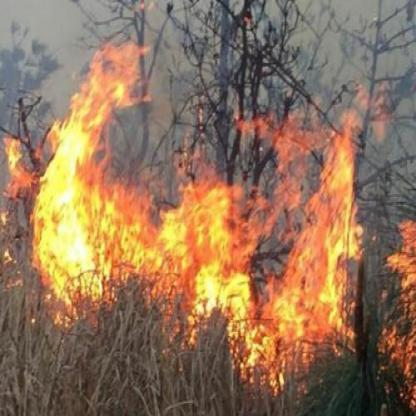fire: (35, 52, 361, 372)
